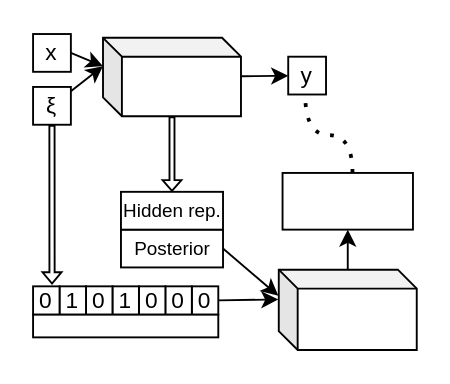
This 450x384 diagram has some shape labels left out. The shapes that lost their labels are listed below. From the top down, each one's centre as x and y in pixels, then its label:
At pixel 171 76: "BERT".
At pixel 347 200: "Correctness Estimate".
At pixel 124 325: "Artefact Signature".
At pixel 347 309: "Meta Model".
